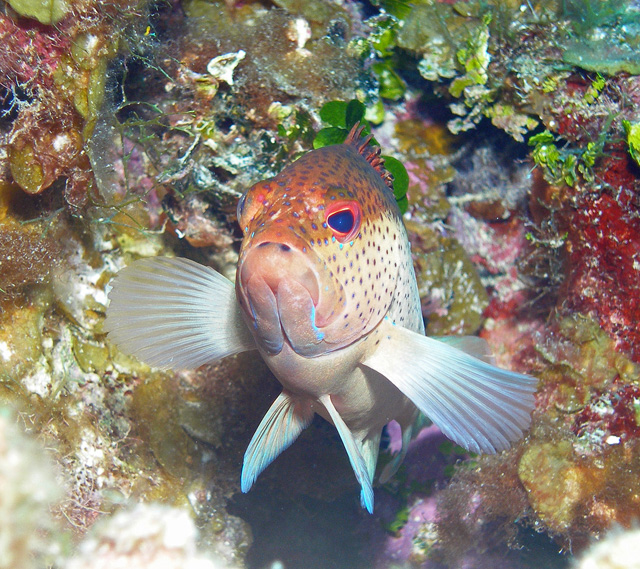Cephalopholis_fulvaw: (77, 134, 566, 525)
